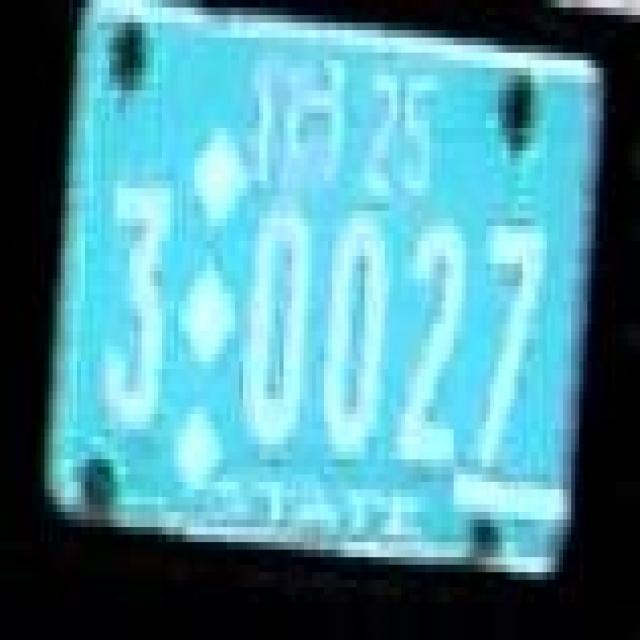State: (247, 45, 348, 207)
